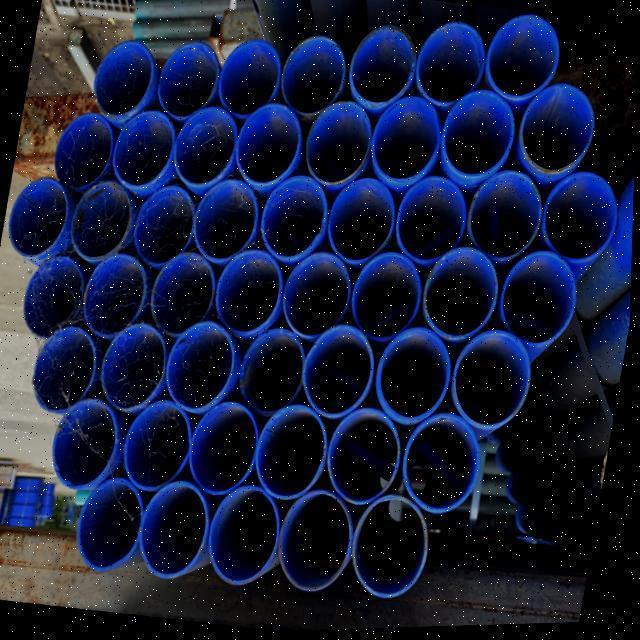pipe: (347, 491, 440, 607), (447, 328, 543, 438), (398, 410, 491, 523), (274, 487, 363, 600), (372, 324, 461, 433), (205, 482, 291, 593), (322, 405, 411, 512), (496, 248, 585, 354), (251, 402, 338, 509), (135, 477, 219, 587), (514, 81, 603, 184), (419, 246, 507, 350), (299, 322, 384, 427), (462, 169, 550, 270), (538, 171, 626, 272), (438, 86, 522, 189), (120, 396, 202, 499), (162, 317, 244, 420), (348, 249, 431, 350), (186, 398, 266, 502), (481, 12, 566, 109), (277, 247, 360, 346), (74, 474, 152, 578), (391, 175, 474, 272), (368, 93, 450, 191), (49, 394, 127, 496), (234, 325, 314, 423), (410, 19, 491, 114), (98, 319, 176, 417), (323, 176, 402, 272), (212, 246, 290, 343), (257, 173, 334, 269), (189, 175, 266, 270), (301, 99, 378, 193), (232, 99, 309, 193), (30, 323, 105, 419), (148, 249, 223, 345), (277, 31, 354, 123), (344, 22, 421, 114), (80, 250, 155, 344), (169, 102, 243, 194), (68, 175, 140, 267), (153, 38, 226, 128), (214, 37, 287, 127), (109, 107, 181, 196), (22, 252, 92, 343), (131, 183, 202, 272), (5, 174, 75, 263), (90, 36, 160, 124), (51, 108, 119, 194)
